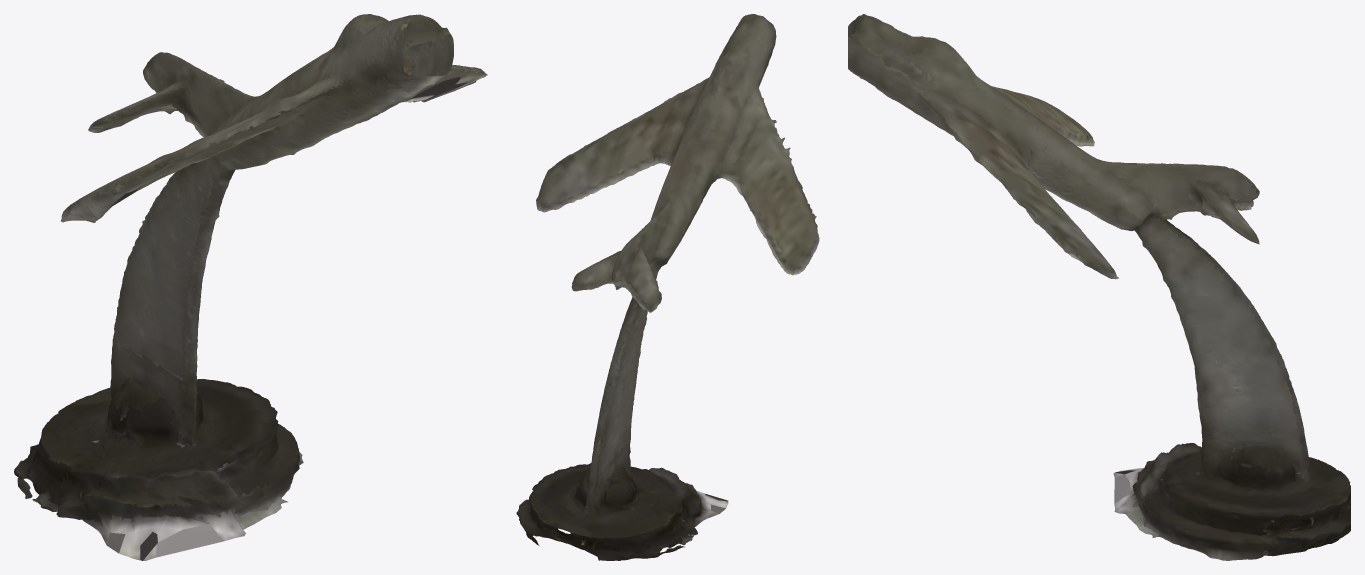
Rendered from may-bay.glb.
3 renders of one model, left to right at view 1: azimuth 30°, elevation 25°; view 2: azimuth 150°, elevation 25°; view 3: azimuth 270°, elevation 25°, orthographic. The views are drawn at different scales.
Visible parts, largest first — view 1: Object_2; view 2: Object_2; view 3: Object_2.
Part boxes in pixels (x1,y1,x2,y2): Object_2: [14, 14, 487, 560]; Object_2: [516, 14, 819, 560]; Object_2: [848, 14, 1350, 560].
Bounding box in the file's own units: 0.1362 × 0.196 × 0.1784.
Materials: 1 (1 with a texture image).
